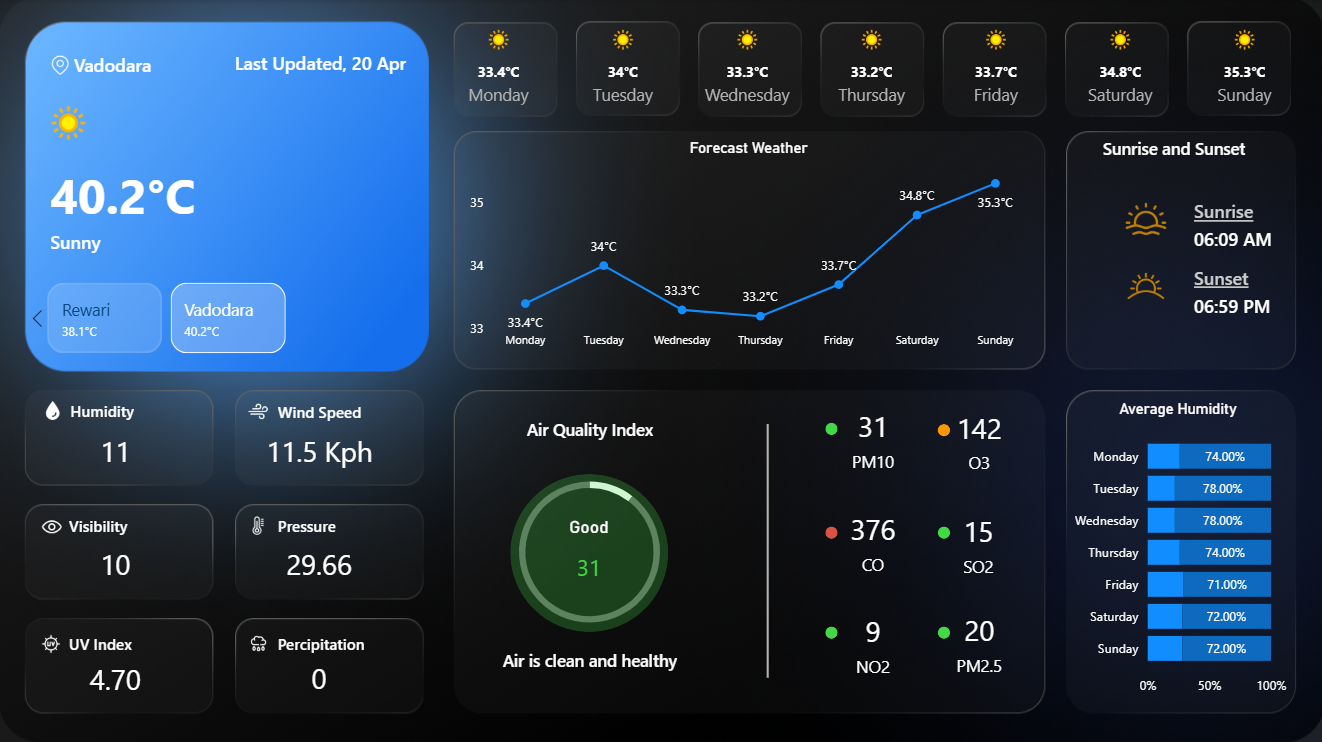

Layout of this report page (visuals, bound fields, positions):
{"tool":"powerbi","page":{"name":"Page 1","canvas":[1280,720],"ordinal":0},"visuals":[{"type":"donutChart","fields":{"Y":["Sum(Current.current.air_quality.pm10)","PM25 Color.Left_Value_PM10"]},"box":[458.9,444.4,223.3,180],"z":0},{"type":"shape","box":[493.8,458.8,152.5,152.5],"z":1000},{"type":"advancedSlicerVisual","fields":{"Values":["Locations.location.name"]},"box":[22,269,399.3,78.2],"z":2000},{"type":"shape","box":[49.4,156.4,190.7,54.9],"z":3000},{"type":"shape","box":[49.4,211.3,152.3,46.7],"z":4000},{"type":"shape","box":[224.3,38.6,168.6,47.1],"z":5000},{"type":"shape","box":[72,39.6,152.8,46.4],"z":6000},{"type":"image","box":[49.2,52.8,18.8,21.2],"z":7000},{"type":"image","box":[37.8,497.8,26.7,22.2],"z":8000},{"type":"shape","box":[68.1,494.4,80,28.1],"z":9000},{"type":"shape","box":[68.3,373.9,168.9,47.2],"z":10000},{"type":"shape","box":[268.9,381.1,123.9,33.9],"z":11000},{"type":"image","box":[41.7,381.7,18.9,31.7],"z":12000},{"type":"image","box":[240,387.2,20,21.7],"z":13000},{"type":"image","box":[40.6,611.1,18.3,22.2],"z":14000},{"type":"image","box":[240,500,20,17.8],"z":15000},{"type":"image","box":[241.9,613.1,18.1,18.8],"z":16000},{"type":"shape","box":[268.8,485,168.8,47.5],"z":17000},{"type":"shape","box":[68.1,598.8,168.8,47.5],"z":18000},{"type":"shape","box":[268.8,598.8,168.8,47.5],"z":19000},{"type":"card","fields":{"Values":["Sum(Current.current.humidity)"]},"box":[72.5,415,80,46.2],"z":20000},{"type":"card","fields":{"Values":["Sum(Current.current.uv)"]},"box":[72.5,635,80,46.2],"z":21000},{"type":"card","fields":{"Values":["Sum(Current.current.vis_km)"]},"box":[72.5,523.8,80,46.2],"z":22000},{"type":"card","fields":{"Values":["Sum(Current.current.precip_in)"]},"box":[268.8,633.8,80,46.2],"z":23000},{"type":"card","fields":{"Values":["Sum(Current.current.pressure_in)"]},"box":[268.8,523.8,80,46.2],"z":24000},{"type":"card","fields":{"Values":["_Measures.Wind_Speed"]},"box":[247.1,414.3,124.3,47.1],"z":25000},{"type":"advancedSlicerVisual","fields":{"Values":["Forecast_Day.Day_Name"]},"box":[421.4,15.7,845.7,104.3],"z":26000},{"type":"lineChart","title":"Forecast Weather","fields":{"Y":["Sum(Forecast_Day.forecast.forecastday.day.avgtemp_c)"],"Category":["Forecast_Day.Day_Name"]},"box":[450,135.7,547.1,211.4],"z":27000},{"type":"shape","box":[1065,131.2,145,25],"z":28000},{"type":"shape","box":[1152.9,204.3,114.3,54.3],"z":29000},{"type":"shape","box":[1152.9,268.6,114.3,54.3],"z":30000},{"type":"shape","box":[1152.9,177.1,112.9,54.3],"z":31000},{"type":"shape","box":[1152.9,241.4,114.3,54.3],"z":32000},{"type":"image","box":[1082.9,192.9,47.1,38.6],"z":33000},{"type":"image","box":[1075.7,252.9,61.4,47.1],"z":34000},{"type":"hundredPercentStackedBarChart","title":"Average Humidity","fields":{"Category":["Forecast_Day.Day_Name"],"Y":["Sum(Forecast_Day.forecast.forecastday.day.avghumidity)","Current.Left_Value"]},"box":[1027.5,387.5,220,293.8],"z":35000},{"type":"shape","box":[500,396.7,141.7,36.7],"z":36000},{"type":"card","fields":{"Values":["Sum(Current.current.air_quality.pm10)"]},"box":[810,386.7,68.3,75],"z":37000},{"type":"card","fields":{"Values":["Sum(Current.current.air_quality.co)"]},"box":[810,486.7,68.3,75],"z":38000},{"type":"card","fields":{"Values":["Sum(Current.current.air_quality.no2)"]},"box":[810,585,68.3,75],"z":39000},{"type":"card","fields":{"Values":["Sum(Current.current.air_quality.pm2_5)"]},"box":[911.7,583.3,68.3,75],"z":40000},{"type":"card","fields":{"Values":["Sum(Current.current.air_quality.so2)"]},"box":[901.7,488.3,88.3,75],"z":41000},{"type":"card","fields":{"Values":["Sum(Current.current.air_quality.o3)"]},"box":[911.7,388.3,68.3,75],"z":42000},{"type":"image","box":[36.7,90,61.7,58.3],"z":43000},{"type":"shape","box":[798,409.3,12,12],"z":44000},{"type":"shape","box":[798,508.7,12,12],"z":45000},{"type":"shape","box":[798,605.3,12,12],"z":46000},{"type":"shape","box":[906,410.7,12,12],"z":47000},{"type":"shape","box":[906,508.7,12,12],"z":48000},{"type":"shape","box":[906,605.3,12,12],"z":49000},{"type":"shape","box":[640,410,205,245],"z":50000},{"type":"card","fields":{"Values":["Sum(Current.current.air_quality.pm10)"]},"box":[522.9,500,94.3,82.9],"z":51000},{"type":"shape","box":[478.3,611.7,185,51.7],"z":52000}]}

Visuals, with their boxes in screenshot pixels (x1, y1, x2, y2), scaled from the page's 1280x720 canvas onto the 1322x742 screenshot:
donutChart - Sum(Current.current.air_quality.pm10) x PM25 Color.Left_Value_PM10: (474,458,705,643)
shape: (510,473,668,630)
advancedSlicerVisual - Locations.location.name: (23,277,435,358)
shape: (51,161,248,218)
shape: (51,218,208,266)
shape: (232,40,406,88)
shape: (74,41,232,89)
image: (51,54,70,76)
image: (39,513,67,536)
shape: (70,510,153,538)
shape: (71,385,245,434)
shape: (278,393,406,428)
image: (43,393,63,426)
image: (248,399,269,421)
image: (42,630,61,653)
image: (248,515,269,534)
image: (250,632,269,651)
shape: (278,500,452,549)
shape: (70,617,245,666)
shape: (278,617,452,666)
card - Sum(Current.current.humidity): (75,428,158,475)
card - Sum(Current.current.uv): (75,654,158,702)
card - Sum(Current.current.vis_km): (75,540,158,587)
card - Sum(Current.current.precip_in): (278,653,360,701)
card - Sum(Current.current.pressure_in): (278,540,360,587)
card - _Measures.Wind_Speed: (255,427,384,475)
advancedSlicerVisual - Forecast_Day.Day_Name: (435,16,1309,124)
"Forecast Weather" lineChart: (465,140,1030,358)
shape: (1100,135,1250,161)
shape: (1191,211,1309,267)
shape: (1191,277,1309,333)
shape: (1191,183,1307,238)
shape: (1191,249,1309,305)
image: (1118,199,1167,239)
image: (1111,261,1174,309)
"Average Humidity" hundredPercentStackedBarChart: (1061,399,1288,702)
shape: (516,409,663,447)
card - Sum(Current.current.air_quality.pm10): (837,399,907,476)
card - Sum(Current.current.air_quality.co): (837,502,907,579)
card - Sum(Current.current.air_quality.no2): (837,603,907,680)
card - Sum(Current.current.air_quality.pm2_5): (942,601,1012,678)
card - Sum(Current.current.air_quality.so2): (931,503,1022,581)
card - Sum(Current.current.air_quality.o3): (942,400,1012,477)
image: (38,93,102,153)
shape: (824,422,837,434)
shape: (824,524,837,537)
shape: (824,624,837,636)
shape: (936,423,948,436)
shape: (936,524,948,537)
shape: (936,624,948,636)
shape: (661,423,873,675)
card - Sum(Current.current.air_quality.pm10): (540,515,637,601)
shape: (494,630,685,684)
